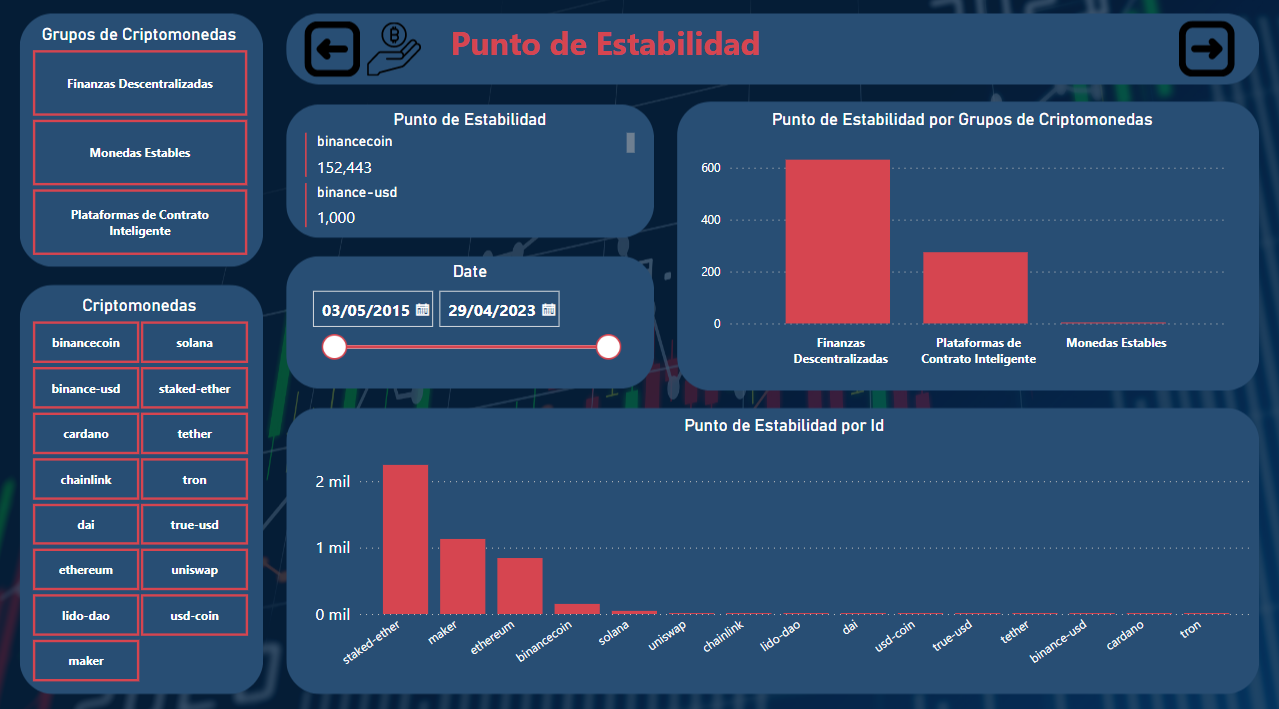

This screenshot's page, from the dashboard's own definition file:
{"tool":"powerbi","page":{"name":"Punto de Estabilidad","canvas":[1280,720],"ordinal":3},"visuals":[{"type":"textbox","box":[446,21.7,365.7,76.4],"z":0},{"type":"clusteredColumnChart","title":"Punto de Estabilidad por Grupos de Criptomonedas","fields":{"Y":["Avg(criptomonedas.prices)"],"Category":["combinado_completo.Grupos de Criptomonedas"]},"box":[693.3,113.3,538.9,265.6],"z":1000},{"type":"clusteredColumnChart","title":"Punto de Estabilidad por Id","fields":{"Y":["Avg(criptomonedas.prices)"],"Category":["combinado_completo.id"]},"box":[311.1,420,947.8,273.3],"z":2000},{"type":"multiRowCard","title":"Punto de Estabilidad","fields":{"Values":["criptomonedas.id","Avg(criptomonedas.prices)"]},"box":[300.8,113.3,339.2,129.2],"z":3000},{"type":"slicer","title":"Date","fields":{"Values":["combinado_completo.date"]},"box":[300.8,266.7,339.2,123.3],"z":4000},{"type":"slicer","title":"Grupos de Criptomonedas","fields":{"Values":["combinado_completo.Grupos de Criptomonedas"]},"box":[7.7,28.5,264.6,238.5],"z":5000},{"type":"slicer","title":"Criptomonedas","fields":{"Values":["combinado_completo.id"]},"box":[7.3,300,265.5,393.6],"z":6000},{"type":"actionButton","box":[1179.9,21.7,62.4,63.7],"z":7000},{"type":"actionButton","box":[300.8,21.5,63.1,65.4],"z":8000}]}

Visuals, with their boxes in screenshot pixels (x1, y1, x2, y2), scaled from the page's 1280x720 canvas onto the 1279x709 screenshot:
textbox: (446, 21, 811, 97)
"Punto de Estabilidad por Grupos de Criptomonedas" clusteredColumnChart: (693, 112, 1231, 373)
"Punto de Estabilidad por Id" clusteredColumnChart: (311, 414, 1258, 683)
"Punto de Estabilidad" multiRowCard: (301, 112, 640, 239)
"Date" slicer: (301, 263, 640, 384)
"Grupos de Criptomonedas" slicer: (8, 28, 272, 263)
"Criptomonedas" slicer: (7, 295, 273, 683)
actionButton: (1179, 21, 1241, 84)
actionButton: (301, 21, 364, 86)
